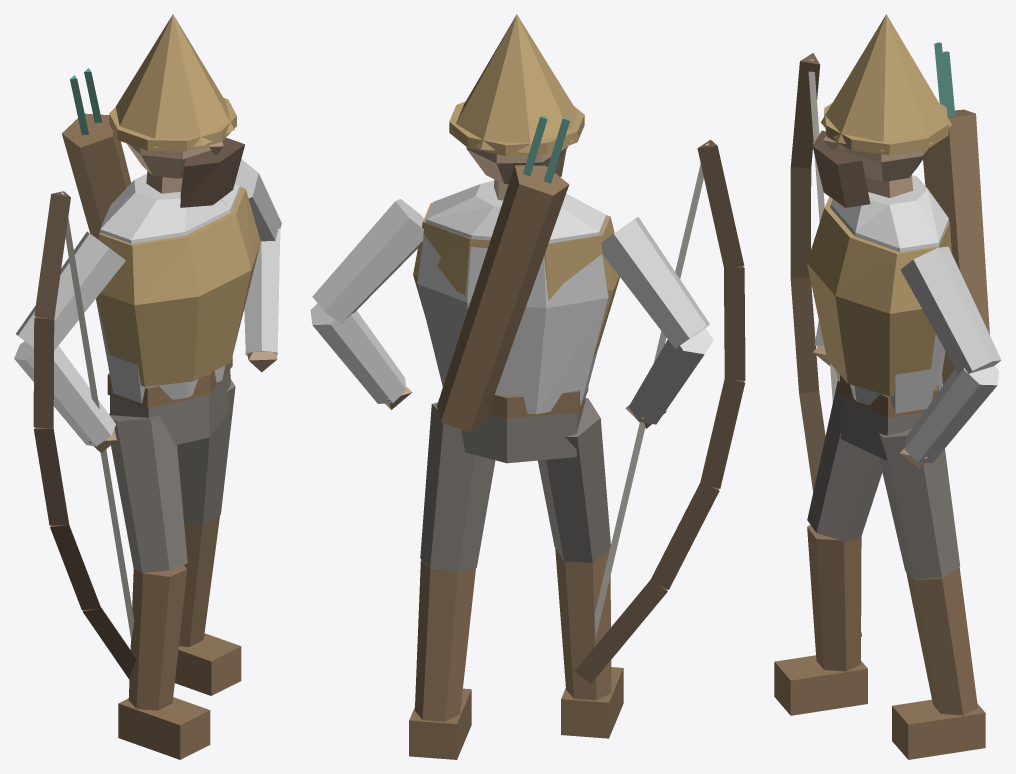
The model's file is bowman.glb.
The picture shows the model from 3 angles, left to right: view 1: azimuth 30°, elevation 25°; view 2: azimuth 150°, elevation 25°; view 3: azimuth 270°, elevation 25°; orthographic projection. The views are drawn at different scales.
Visible parts, largest first — view 1: LOD0; view 2: LOD0; view 3: LOD0.
Part boxes in pixels (x1=…): LOD0: x1=14, y1=14, x2=281, y2=759; LOD0: x1=310, y1=14, x2=745, y2=759; LOD0: x1=774, y1=14, x2=1001, y2=759.
Size of what is drawn, in the model's own units: 0.5239 by 1.04 by 0.3038.
